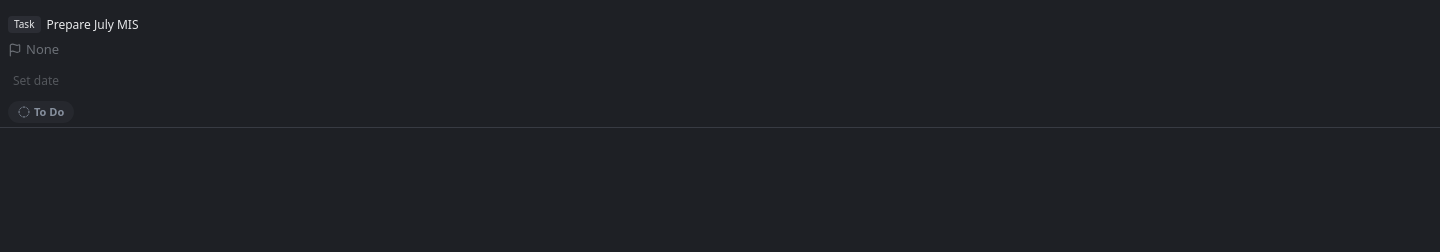
it: ItemRow (dense table) › labels the "none" priority as a word, not a bare dash
Click the button with aria-label "priority for" at (34, 51), box [8,41,59,61]
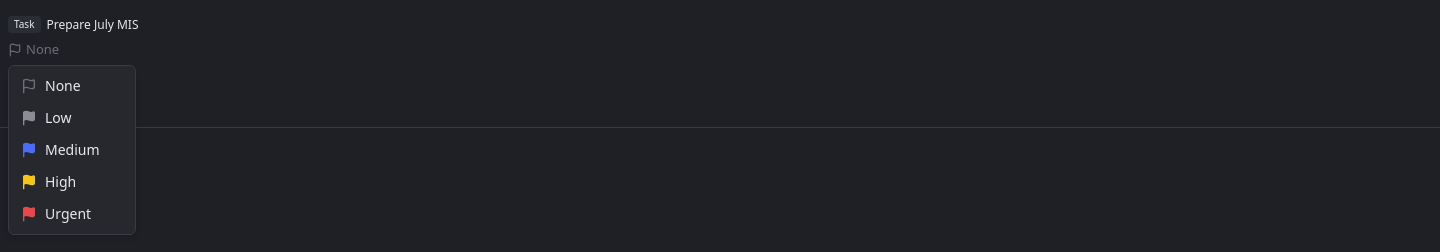
expect the menu item "None" is shown: met, box [21,76,81,95]
